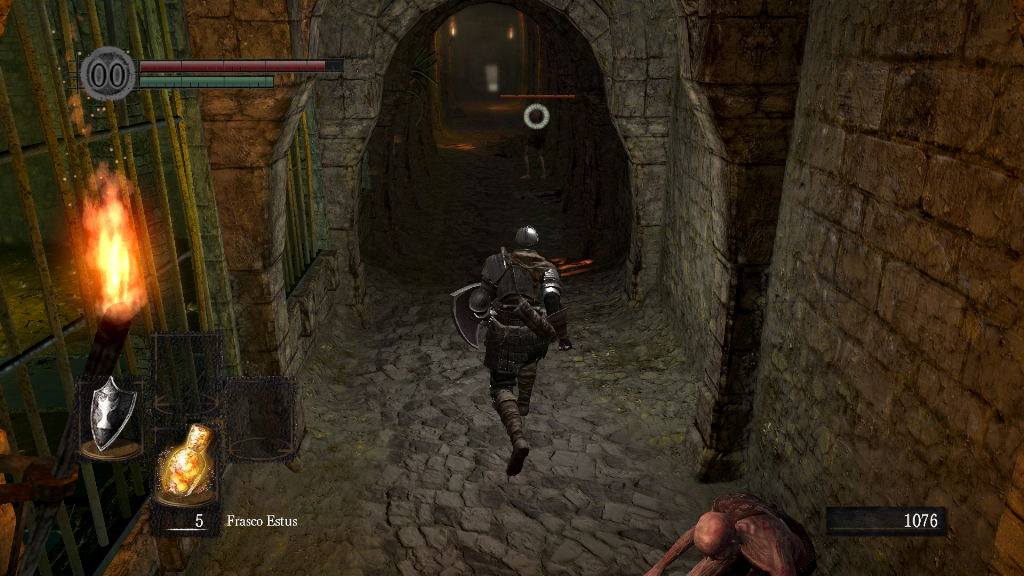health: (138, 58, 343, 71)
hollow: (513, 102, 553, 184)
humanity: (80, 45, 136, 102)
player: (451, 224, 576, 478)
souls: (825, 506, 945, 536)
stamina: (138, 74, 274, 88)
